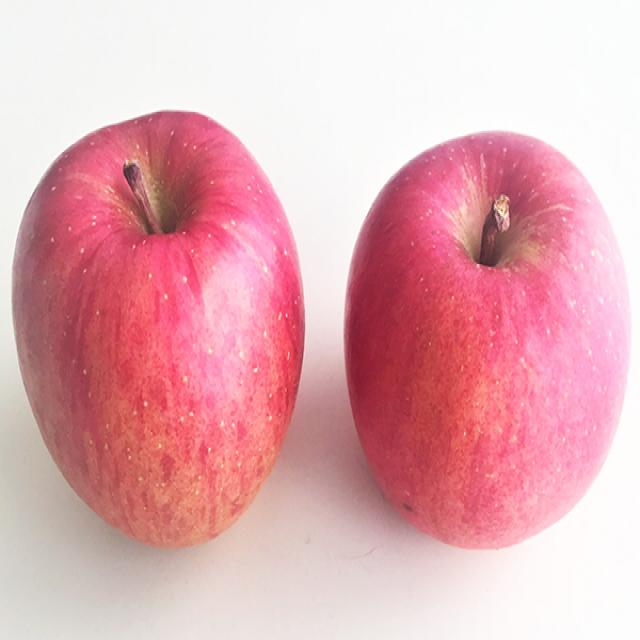Apple: (8, 110, 304, 548), (335, 130, 629, 550)
